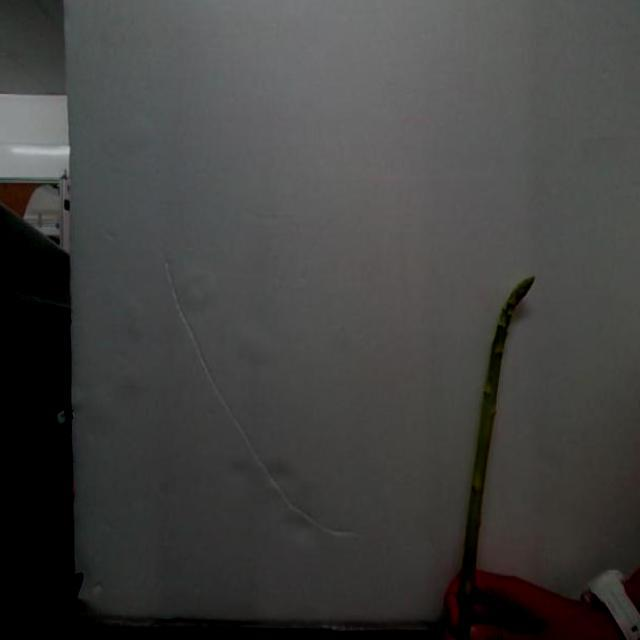aspargus: (453, 278, 534, 640)
